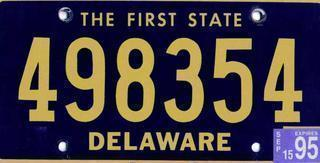placa de veiculo: (6, 1, 317, 161)
